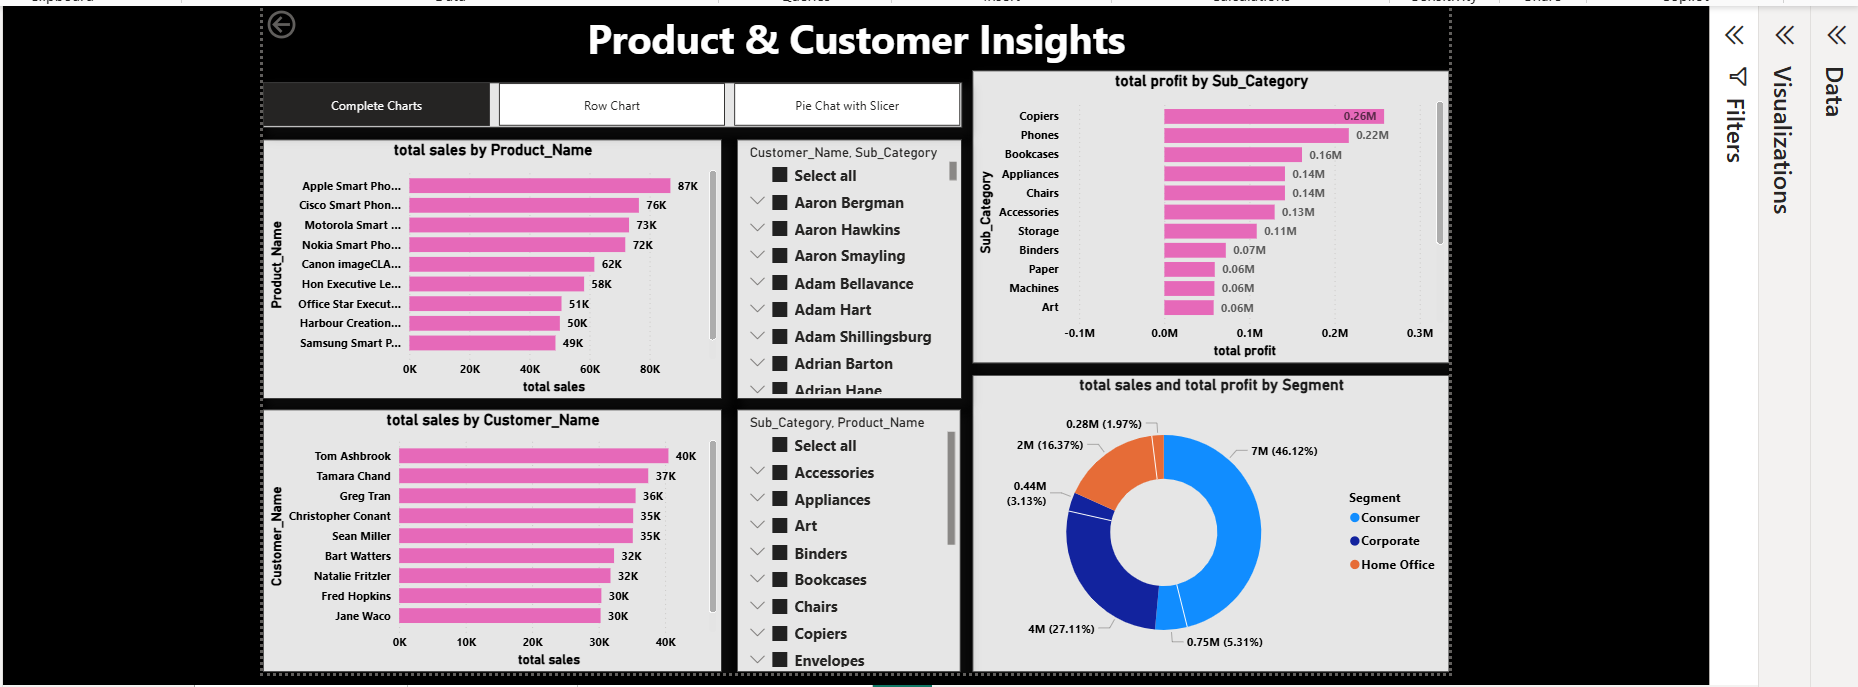

This screenshot's page, from the dashboard's own definition file:
{"tool":"powerbi","page":{"name":"Product & Customer Insights","canvas":[1280,720],"ordinal":2},"visuals":[{"type":"textbox","box":[0,0,1280.8,69.6],"z":0},{"type":"donutChart","fields":{"Category":["DataAnalysis_Retail3.Segment"],"Y":["DataAnalysis_Retail3.total sales","DataAnalysis_Retail3.total profit"]},"box":[765.9,398.3,514.9,320.6],"z":4000},{"type":"actionButton","box":[0,0,100,40],"z":5000},{"type":"slicer","fields":{"Values":["DataAnalysis_Retail3.Customer_Name","DataAnalysis_Retail3.Sub_Category"]},"box":[511.7,144.1,242.9,280.1],"z":6000},{"type":"slicer","fields":{"Values":["DataAnalysis_Retail3.Sub_Category","DataAnalysis_Retail3.Product_Name"]},"box":[511.7,435.6,241.3,283.4],"z":7000},{"type":"bookmarkNavigator","box":[11.3,82.6,600.7,50.2],"z":8000}]}

Visuals, with their boxes in screenshot pixels (x1, y1, x2, y2):
textbox: [left=247, top=0, right=1452, bottom=65]
donutChart - DataAnalysis_Retail3.Segment x DataAnalysis_Retail3.total sales: [left=968, top=375, right=1452, bottom=677]
actionButton: [left=247, top=0, right=341, bottom=38]
slicer - DataAnalysis_Retail3.Customer_Name x DataAnalysis_Retail3.Sub_Category: [left=728, top=136, right=957, bottom=399]
slicer - DataAnalysis_Retail3.Sub_Category x DataAnalysis_Retail3.Product_Name: [left=728, top=410, right=955, bottom=677]
bookmarkNavigator: [left=257, top=78, right=823, bottom=125]
